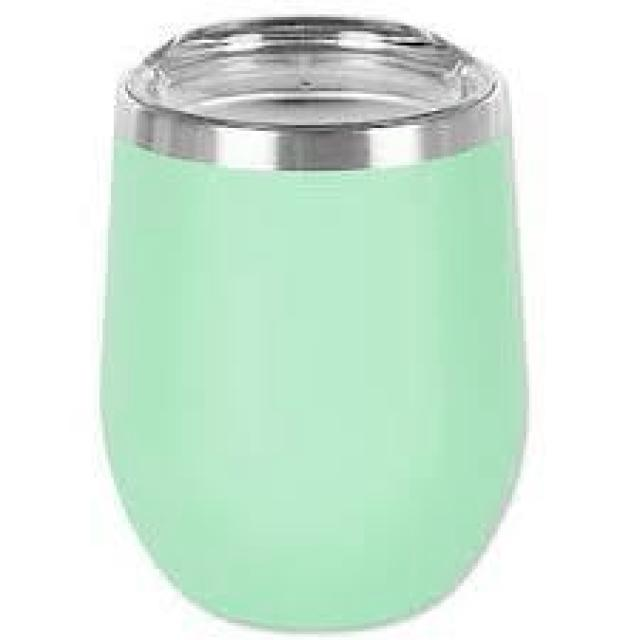bottle: (97, 14, 534, 640)
